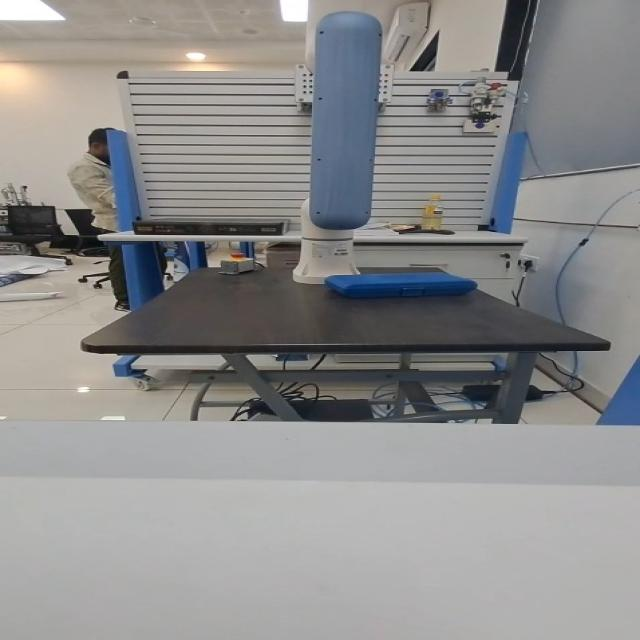top-surface: (345, 274, 452, 281)
